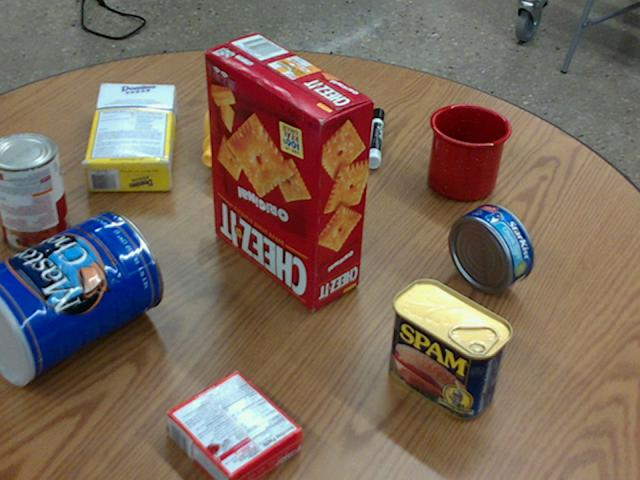cracker_box: (204, 33, 373, 309)
gelatin_box: (166, 370, 302, 479)
large_marker: (365, 108, 384, 167)
master_chef_can: (0, 209, 162, 385)
mug: (425, 103, 510, 200)
mustard_bottle: (201, 68, 316, 166)
potted_meat_can: (388, 279, 513, 418)
sugar_box: (83, 80, 175, 192)
tomato_soup_can: (0, 132, 70, 252)
tuna_fish_can: (448, 202, 532, 292)
